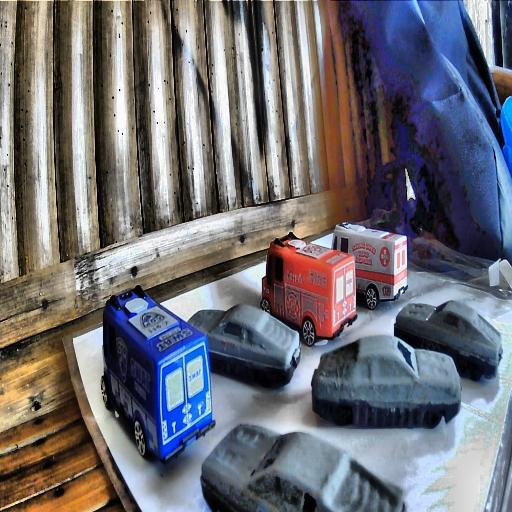ambulance: (329, 221, 408, 309)
fire_truck: (258, 230, 356, 346)
normal_car: (202, 423, 398, 512), (312, 334, 462, 430), (191, 304, 299, 390), (394, 300, 504, 383)
police car: (99, 284, 215, 463)
